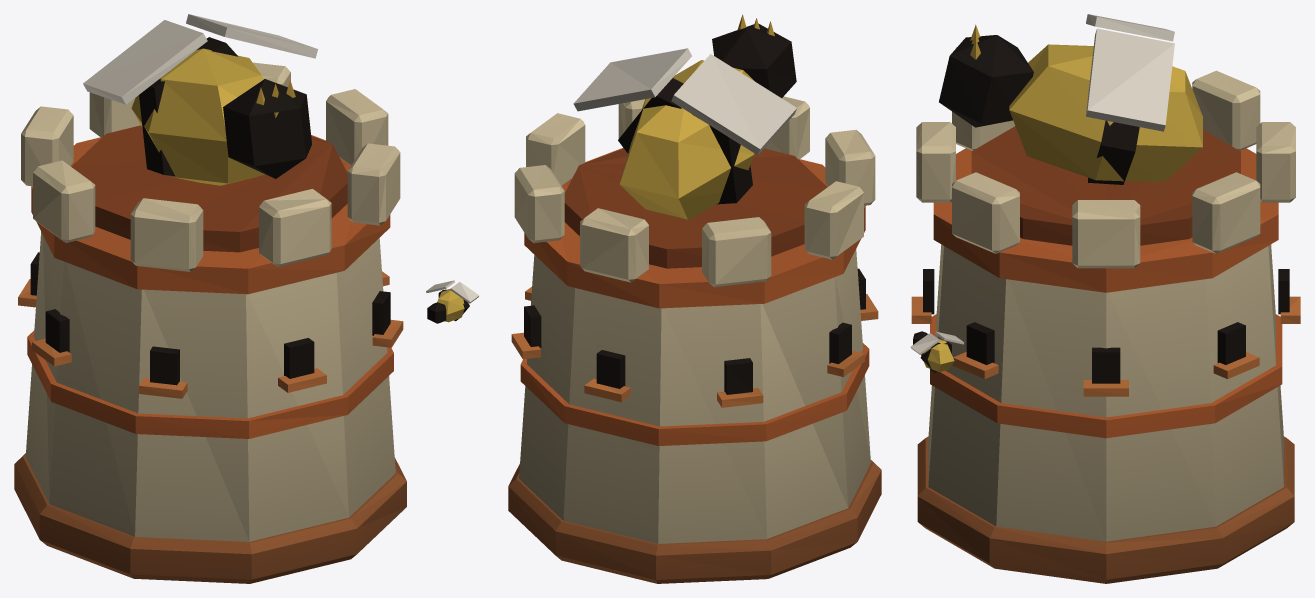
Rendered from queens_guard.glb.
The picture shows the model from 3 angles, left to right: view 1: azimuth 30°, elevation 25°; view 2: azimuth 150°, elevation 25°; view 3: azimuth 270°, elevation 25°; orthographic projection. The views are drawn at different scales.
Parts seen in each view (by area): view 1: queens_guard; view 2: queens_guard; view 3: queens_guard.
Part boxes in pixels (x1=…): queens_guard: x1=14, y1=14, x2=479, y2=583; queens_guard: x1=508, y1=14, x2=881, y2=583; queens_guard: x1=910, y1=14, x2=1300, y2=583.
Size of the model in its own units: 0.7117 by 0.9371 by 0.6887.
